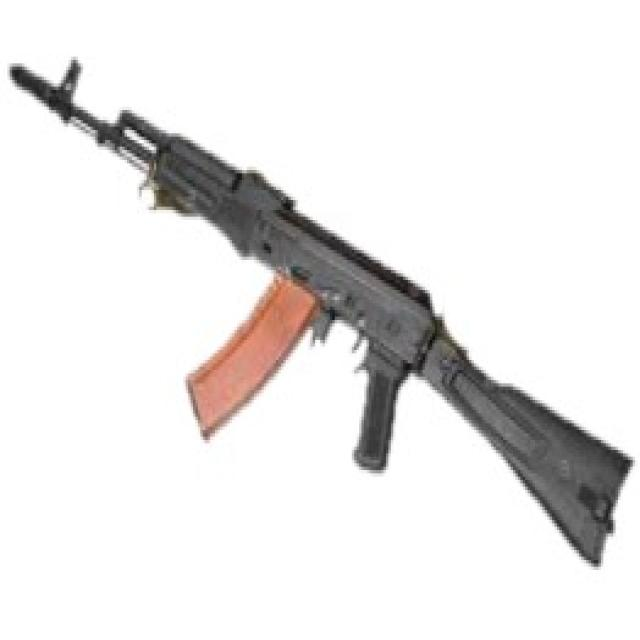rifle: (1, 51, 639, 561)
